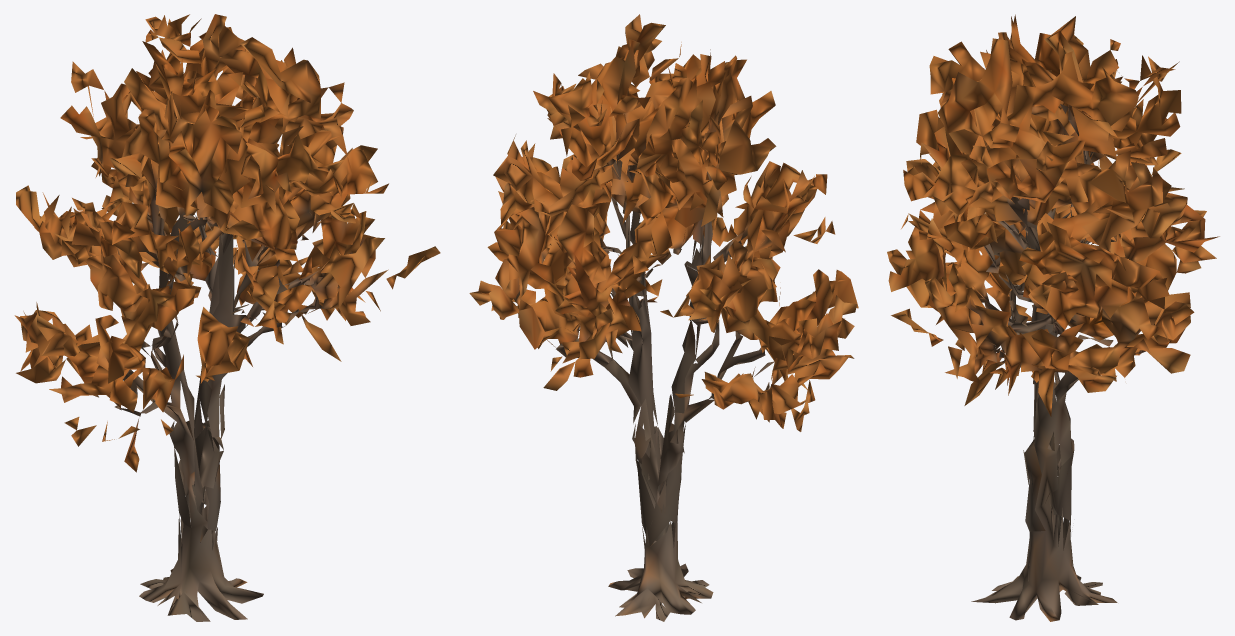
The model's file is ginkgo_b.glb.
3 views of the same model, side by side, from view 1: azimuth 30°, elevation 25°; view 2: azimuth 150°, elevation 25°; view 3: azimuth 270°, elevation 25° (orthographic). The views are drawn at different scales.
Visible parts, largest first — view 1: crown, trunk; view 2: crown, trunk; view 3: crown, trunk.
Part boxes in pixels (box(x1,y1,x2,y2)): crown: box(14, 14, 440, 530); trunk: box(115, 178, 338, 621); crown: box(469, 14, 858, 546); trunk: box(547, 160, 774, 621); crown: box(887, 14, 1219, 537); trunk: box(971, 104, 1145, 621).
Bounding box in the file's own units: 7.67 × 11.87 × 6.19.
